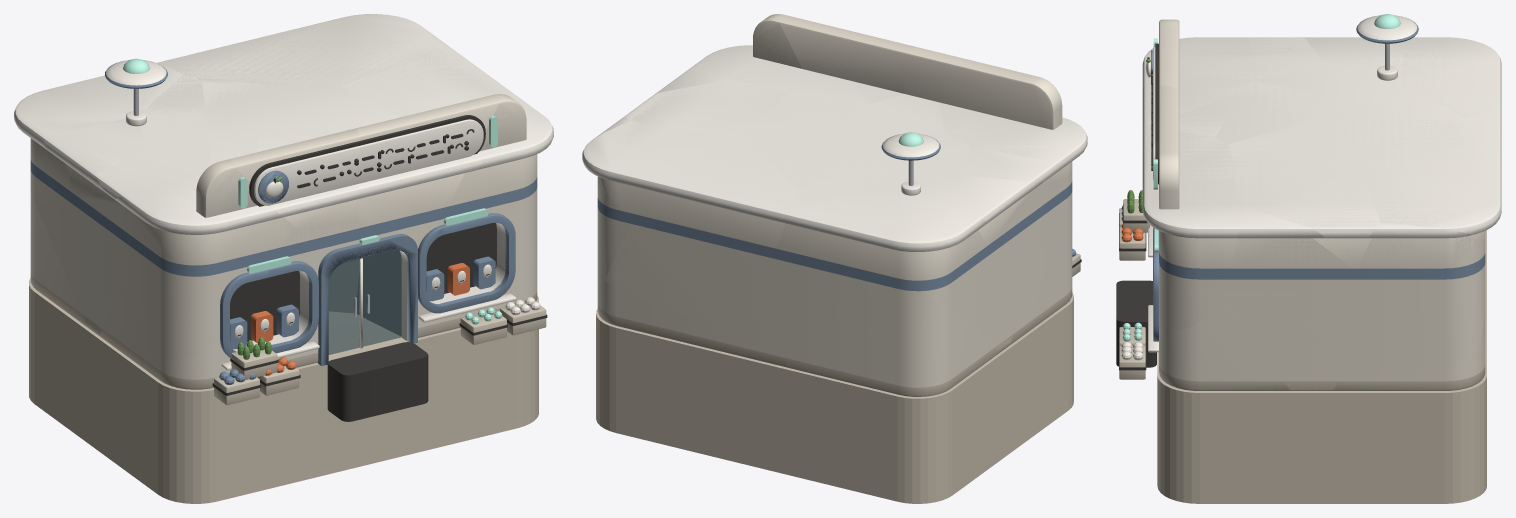
File: Loja_Mercadinho.fbx
The picture shows the model from 3 angles, left to right: view 1: azimuth 30°, elevation 25°; view 2: azimuth 150°, elevation 25°; view 3: azimuth 270°, elevation 25°; orthographic projection. The views are drawn at different scales.
Visible parts, largest first — view 1: LOD0_Predio.008, LOD0_Base.008, Caco_19.008, Caco_05.008, Caco_15.008, Caco_02.008, Caco_14.008, Caco_22.006, Caco_01.008, Caco_21.006, Caco_17.008, Caco_03.008 (+14 smaller); view 2: LOD0_Predio.008, LOD0_Base.008, Caco_06.008, Caco_14.008, Caco_22.006, Caco_07.008, Caco_05.008, Caco_10.008, Caco_03.008, Caco_02.008, Caco_16.008, Caco_21.006 (+11 smaller); view 3: LOD0_Predio.008, LOD0_Base.008, Caco_08.008, Caco_20.006, Caco_22.006, Caco_21.006, Caco_09.008, Caco_10.008, Caco_01.008, Caco_14.008, Caco_05.008, Caco_12.008 (+11 smaller).
Boxes of the visible parts, box(x1,y1,x2,y2) form: LOD0_Predio.008: box(21, 14, 548, 389); LOD0_Base.008: box(29, 278, 538, 503); Caco_19.008: box(240, 221, 417, 365); Caco_05.008: box(355, 96, 498, 252); Caco_15.008: box(116, 159, 296, 283); Caco_02.008: box(109, 207, 254, 358); Caco_14.008: box(14, 62, 182, 332); Caco_22.006: box(158, 14, 441, 85); Caco_01.008: box(357, 226, 537, 343); Caco_21.006: box(439, 94, 553, 253); Caco_17.008: box(230, 128, 359, 230); Caco_03.008: box(44, 112, 145, 313); LOD0_Predio.008: box(584, 14, 1086, 396); LOD0_Base.008: box(596, 292, 1073, 503); Caco_06.008: box(779, 245, 997, 396); Caco_14.008: box(779, 194, 1018, 349); Caco_22.006: box(582, 120, 797, 255); Caco_07.008: box(605, 222, 770, 346); Caco_05.008: box(779, 16, 916, 104); Caco_10.008: box(746, 93, 861, 191); Caco_03.008: box(899, 175, 1043, 311); Caco_02.008: box(1020, 176, 1072, 309); Caco_16.008: box(798, 134, 970, 197); Caco_21.006: box(689, 14, 801, 86); LOD0_Predio.008: box(1142, 16, 1501, 390); LOD0_Base.008: box(1157, 230, 1486, 503); Caco_08.008: box(1345, 222, 1485, 370); Caco_20.006: box(1221, 207, 1354, 390); Caco_22.006: box(1360, 116, 1501, 245); Caco_21.006: box(1142, 152, 1243, 329); Caco_09.008: box(1233, 168, 1380, 269); Caco_10.008: box(1228, 119, 1445, 175); Caco_01.008: box(1148, 256, 1291, 390); Caco_14.008: box(1400, 37, 1501, 116); Caco_05.008: box(1142, 85, 1238, 237); Caco_12.008: box(1332, 336, 1485, 390).
Size of what is drawn, in the model's own units: 11.2 by 9.28 by 9.45.
